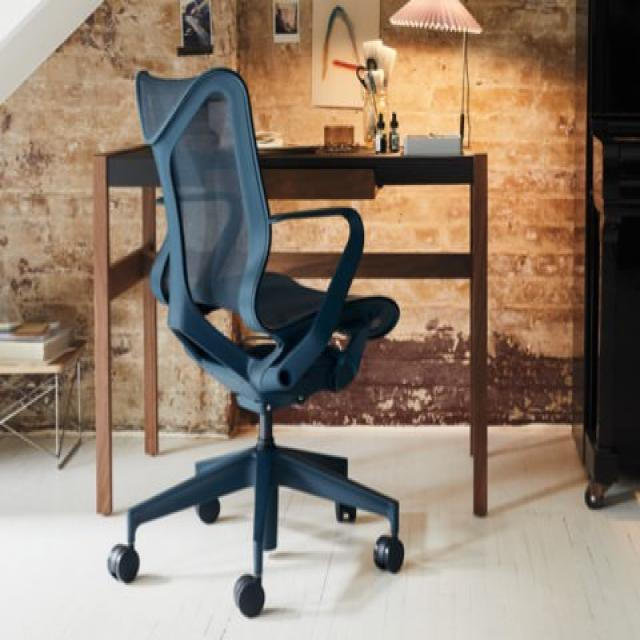chair: (82, 54, 440, 638)
